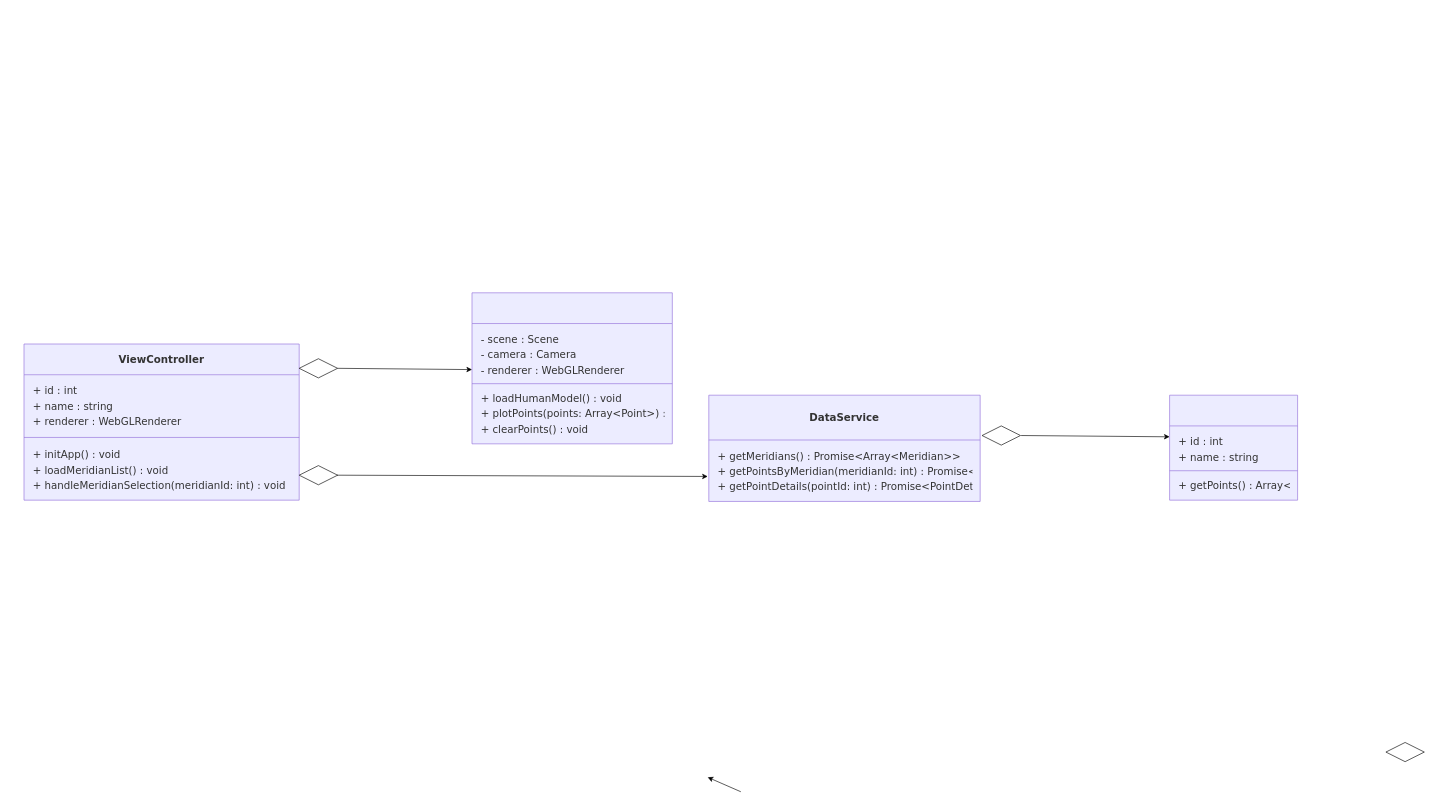
The diagram is 1436 pixels wide and 808 high, and some of its shapes have lost their labels. The box of each missing label's shape, as (x1, y1, x2, y2) in pixels:
Meridian: (1169, 395, 1298, 500)
Model3DViewer: (471, 292, 672, 444)
